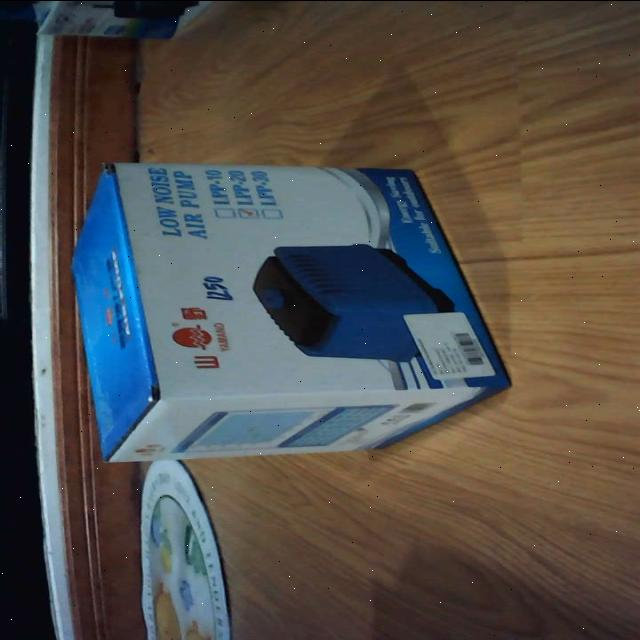YAMANO_LPP_20: (54, 148, 522, 470)
